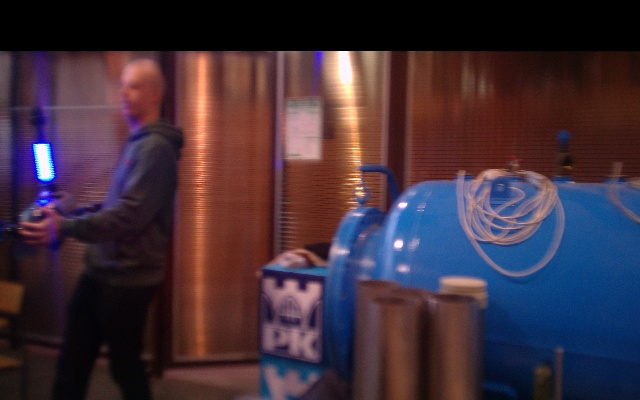blue: (34, 142, 53, 184)
